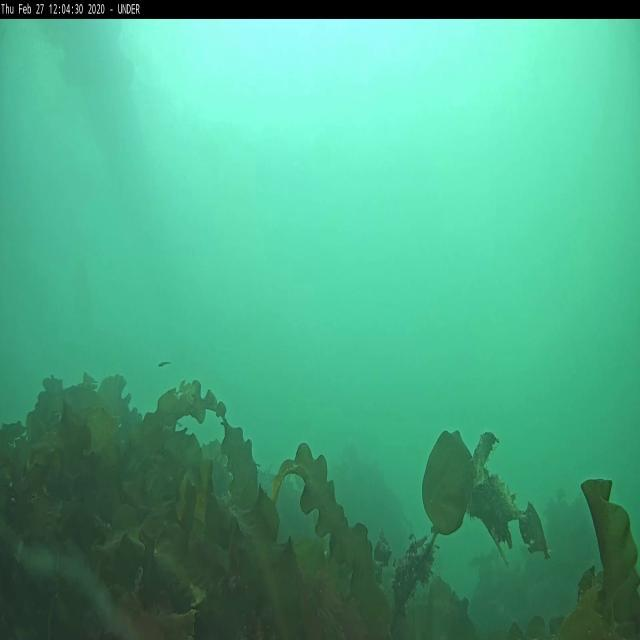fish: (157, 356, 171, 368)
